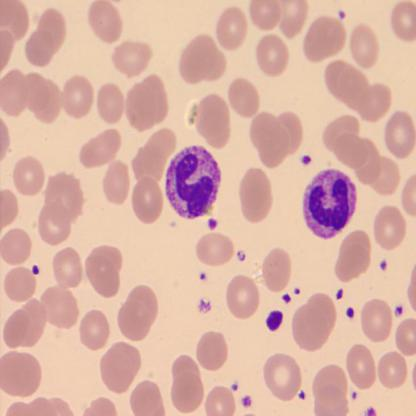Segmented neutrophil: (162, 142, 223, 223), (302, 166, 357, 240)
